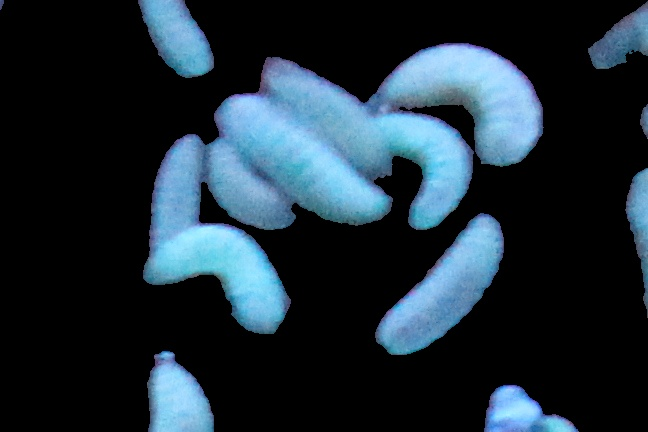larvae: (214, 91, 382, 224), (380, 45, 545, 161), (385, 212, 505, 353), (142, 220, 285, 334), (259, 55, 378, 163), (381, 111, 474, 226), (200, 139, 293, 228), (139, 1, 219, 78), (147, 348, 217, 432), (153, 132, 205, 240)
